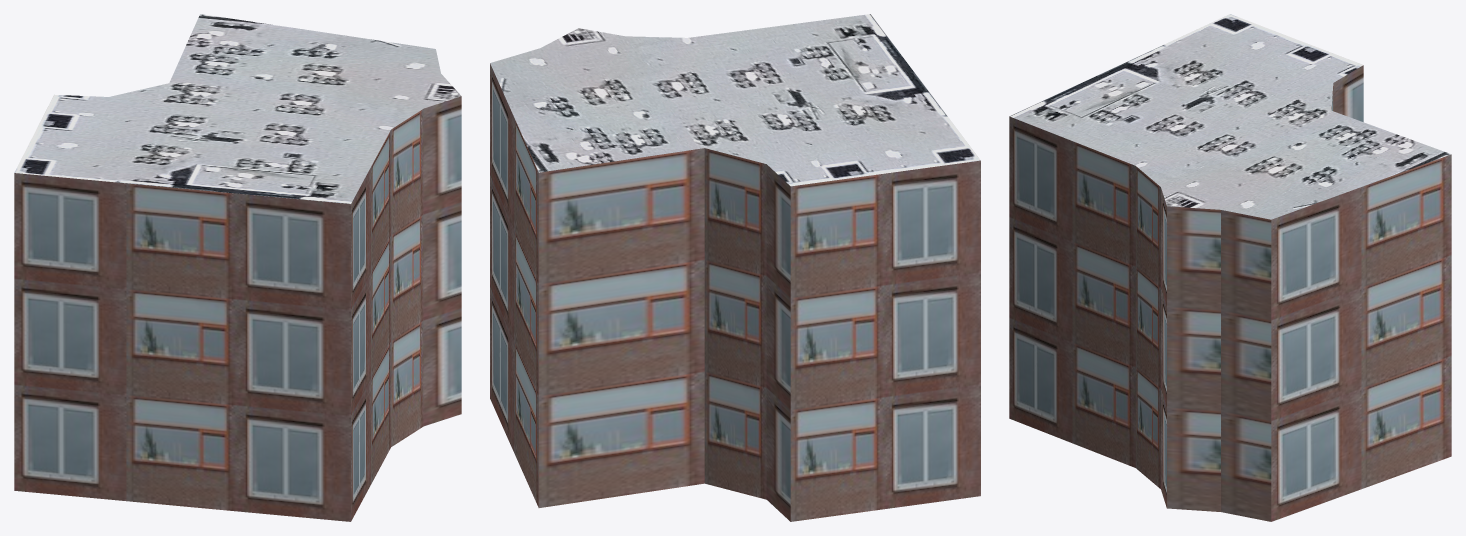
File: ResTex__4784.fbx
The picture shows the model from 3 angles, left to right: view 1: azimuth 30°, elevation 25°; view 2: azimuth 150°, elevation 25°; view 3: azimuth 270°, elevation 25°; orthographic projection. The views are drawn at different scales.
Visible parts, largest first — view 1: CityEngineMaterial_19_m, CityEngineMaterial_15_m; view 2: CityEngineMaterial_19_m, CityEngineMaterial_15_m; view 3: CityEngineMaterial_19_m, CityEngineMaterial_15_m.
Boxes of the visible parts, x1,y1,x2,y2 form: CityEngineMaterial_19_m: (14, 96, 461, 521); CityEngineMaterial_15_m: (14, 14, 461, 203); CityEngineMaterial_19_m: (490, 63, 980, 521); CityEngineMaterial_15_m: (490, 14, 980, 186); CityEngineMaterial_19_m: (1009, 65, 1451, 521); CityEngineMaterial_15_m: (1009, 14, 1451, 219).
Bounding box in the file's own units: 13.14 × 9 × 11.94.
Materials: 2 (2 with a texture image).
